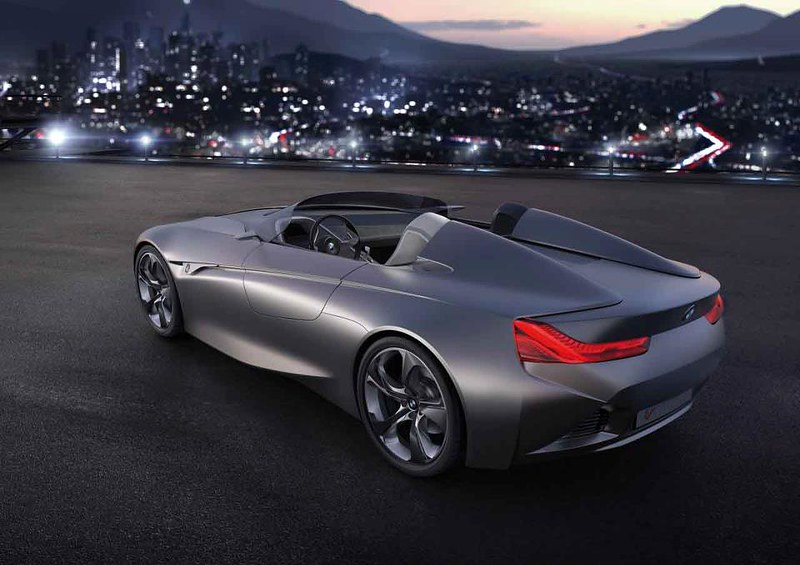car: (131, 184, 730, 480)
